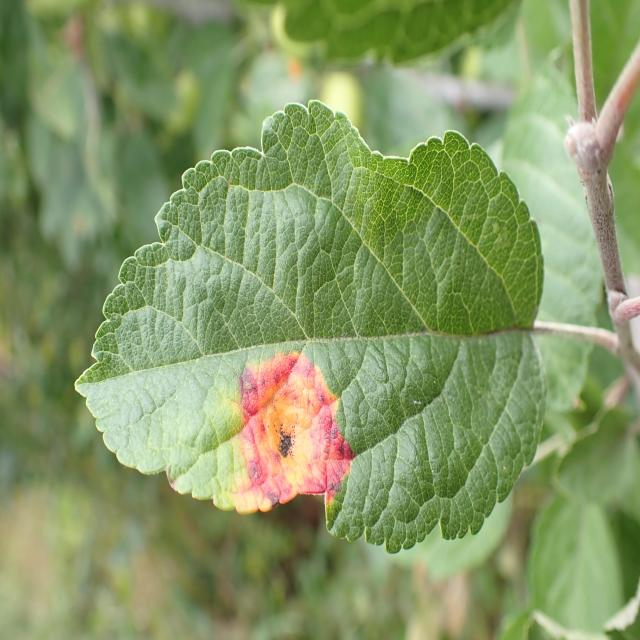Rust: (232, 343, 359, 531)
